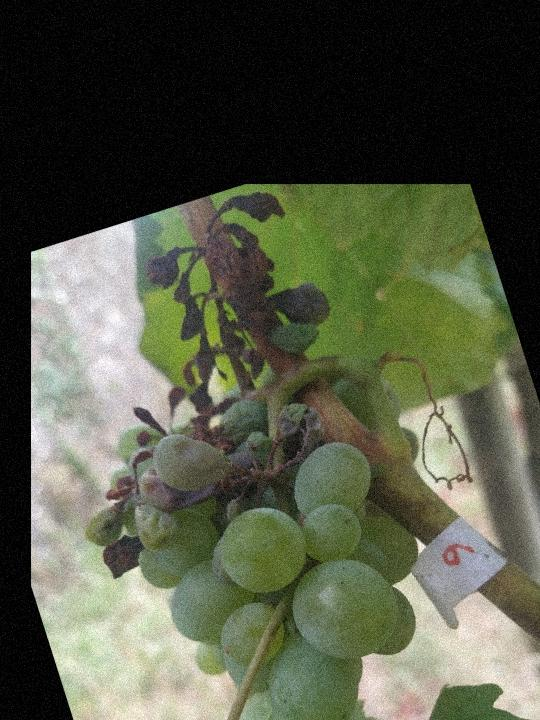grape: (0, 173, 460, 720)
